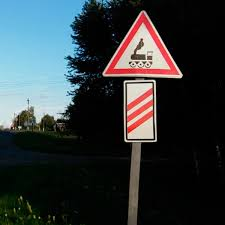1.2: (99, 11, 186, 81)
1.4.1: (119, 81, 157, 141)
